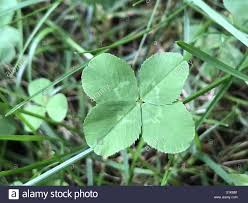4-clover: (83, 50, 196, 156)
